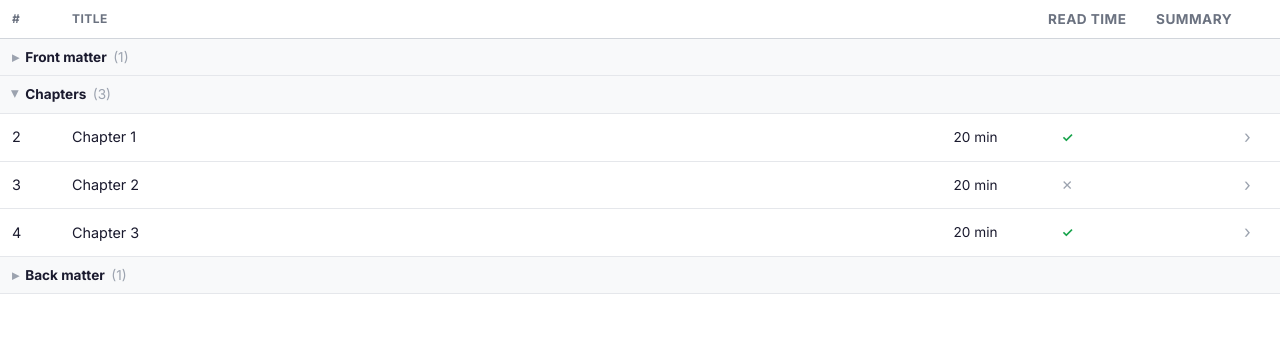
SectionListTable (FR-C13..C20) — div-grid stack mode › clicking a group separator toggles expand and persists to localStorage
The width and height of the screenshot is (1280, 359).
Click the button "▸ Back matter (1)": (65, 275) [0,257,1279,294]
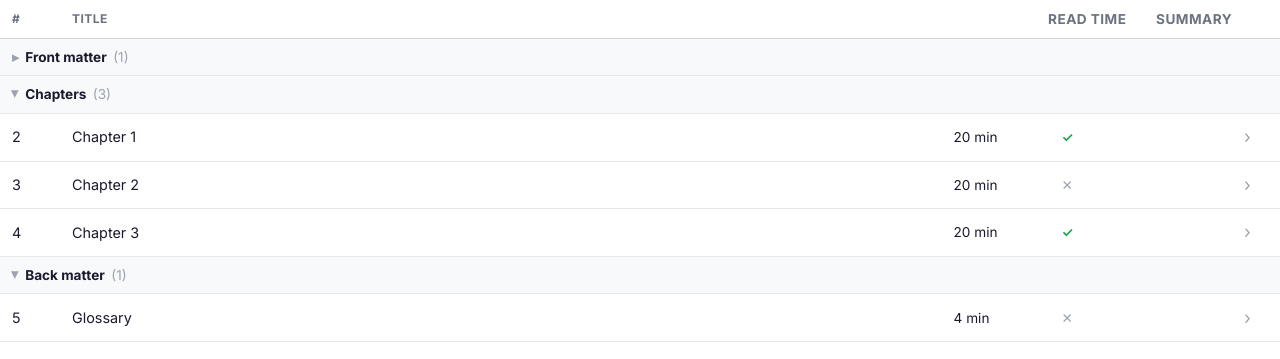
Expected: the element showing "5 Glossary 4 min ✕ ›" is shown, [0,294,1279,342]
